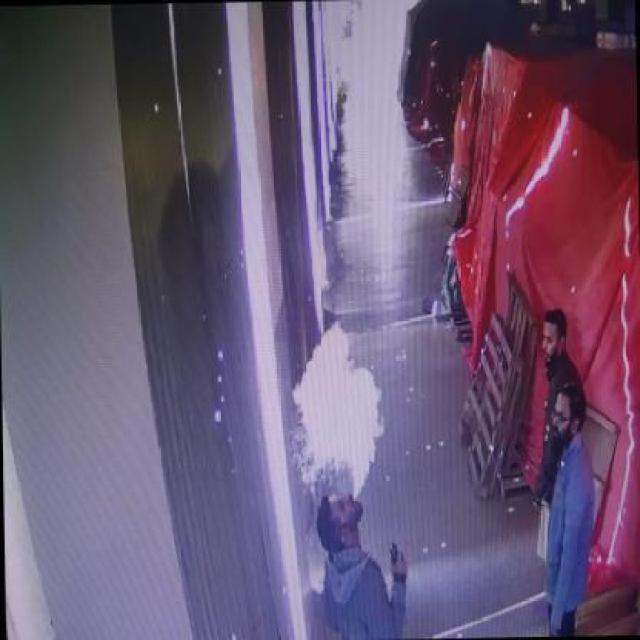fire: (288, 317, 387, 488)
